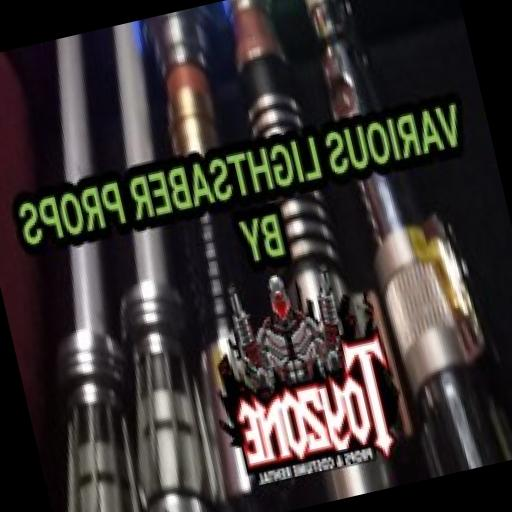lightsaber: (37, 19, 258, 512), (112, 5, 319, 512), (295, 0, 512, 483), (210, 0, 406, 502), (0, 34, 197, 512)
